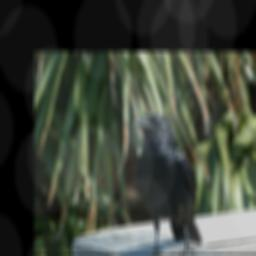Crow: (134, 112, 203, 254)
